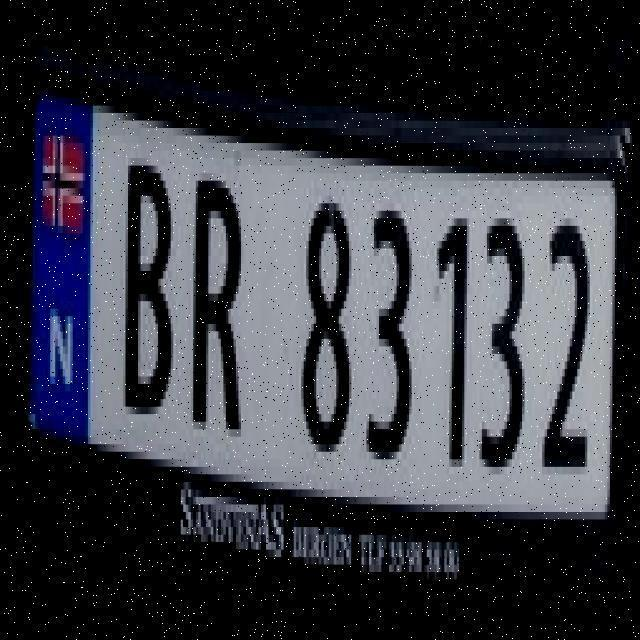LicensePlate: (15, 24, 620, 565)
